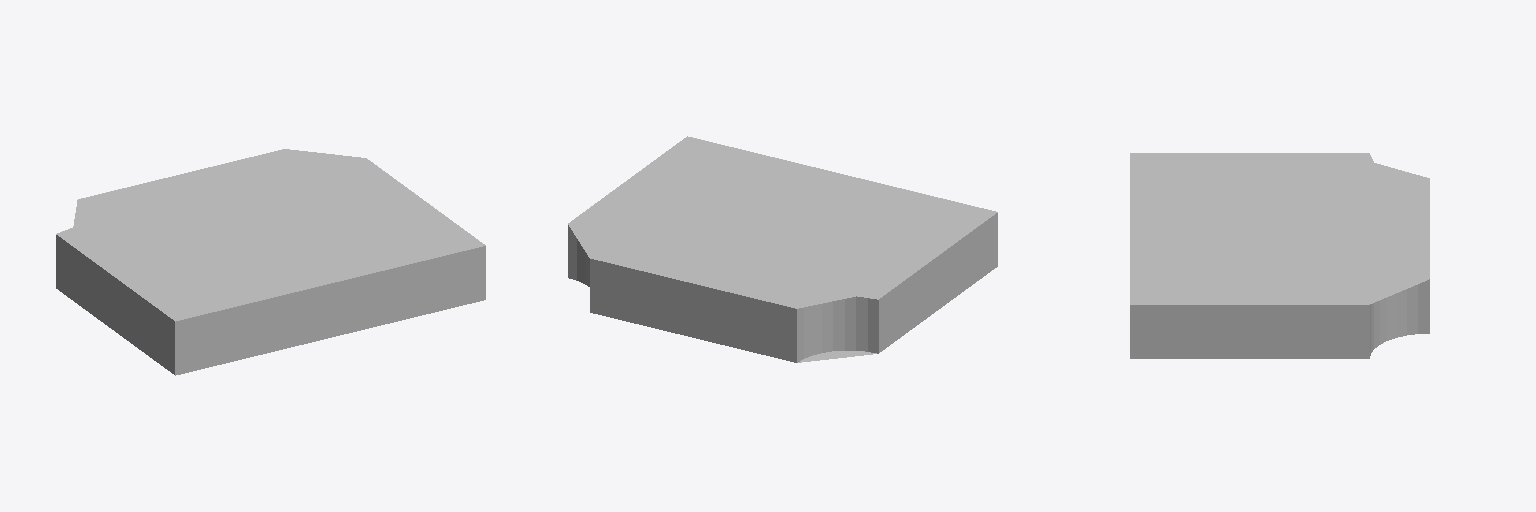
File: conjugtion.obj
3 renders of one model, left to right at view 1: azimuth 30°, elevation 25°; view 2: azimuth 150°, elevation 25°; view 3: azimuth 270°, elevation 25°, orthographic.
Parts seen in each view (by area): view 1: Cylinder.001_Cylinder; view 2: Cylinder.001_Cylinder; view 3: Cylinder.001_Cylinder.
Part boxes in pixels (x1,y1,x2,y2): Cylinder.001_Cylinder: (56,149,485,375); Cylinder.001_Cylinder: (568,136,997,362); Cylinder.001_Cylinder: (1130,153,1429,358).
Size of the model in its own units: 6 by 1 by 5.